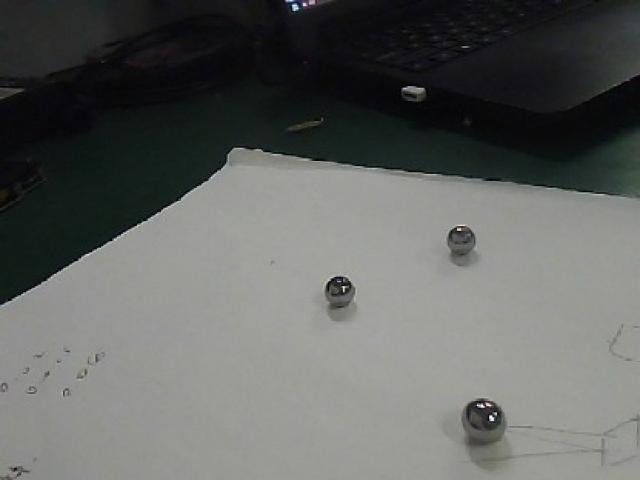steel-ball: (435, 374, 511, 461), (308, 255, 362, 320), (435, 214, 491, 266)
